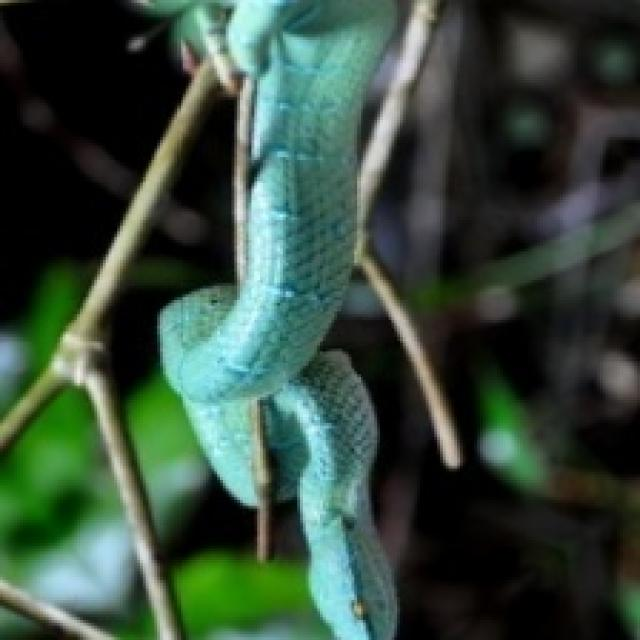north ph temple pitviper: (160, 0, 394, 637)
